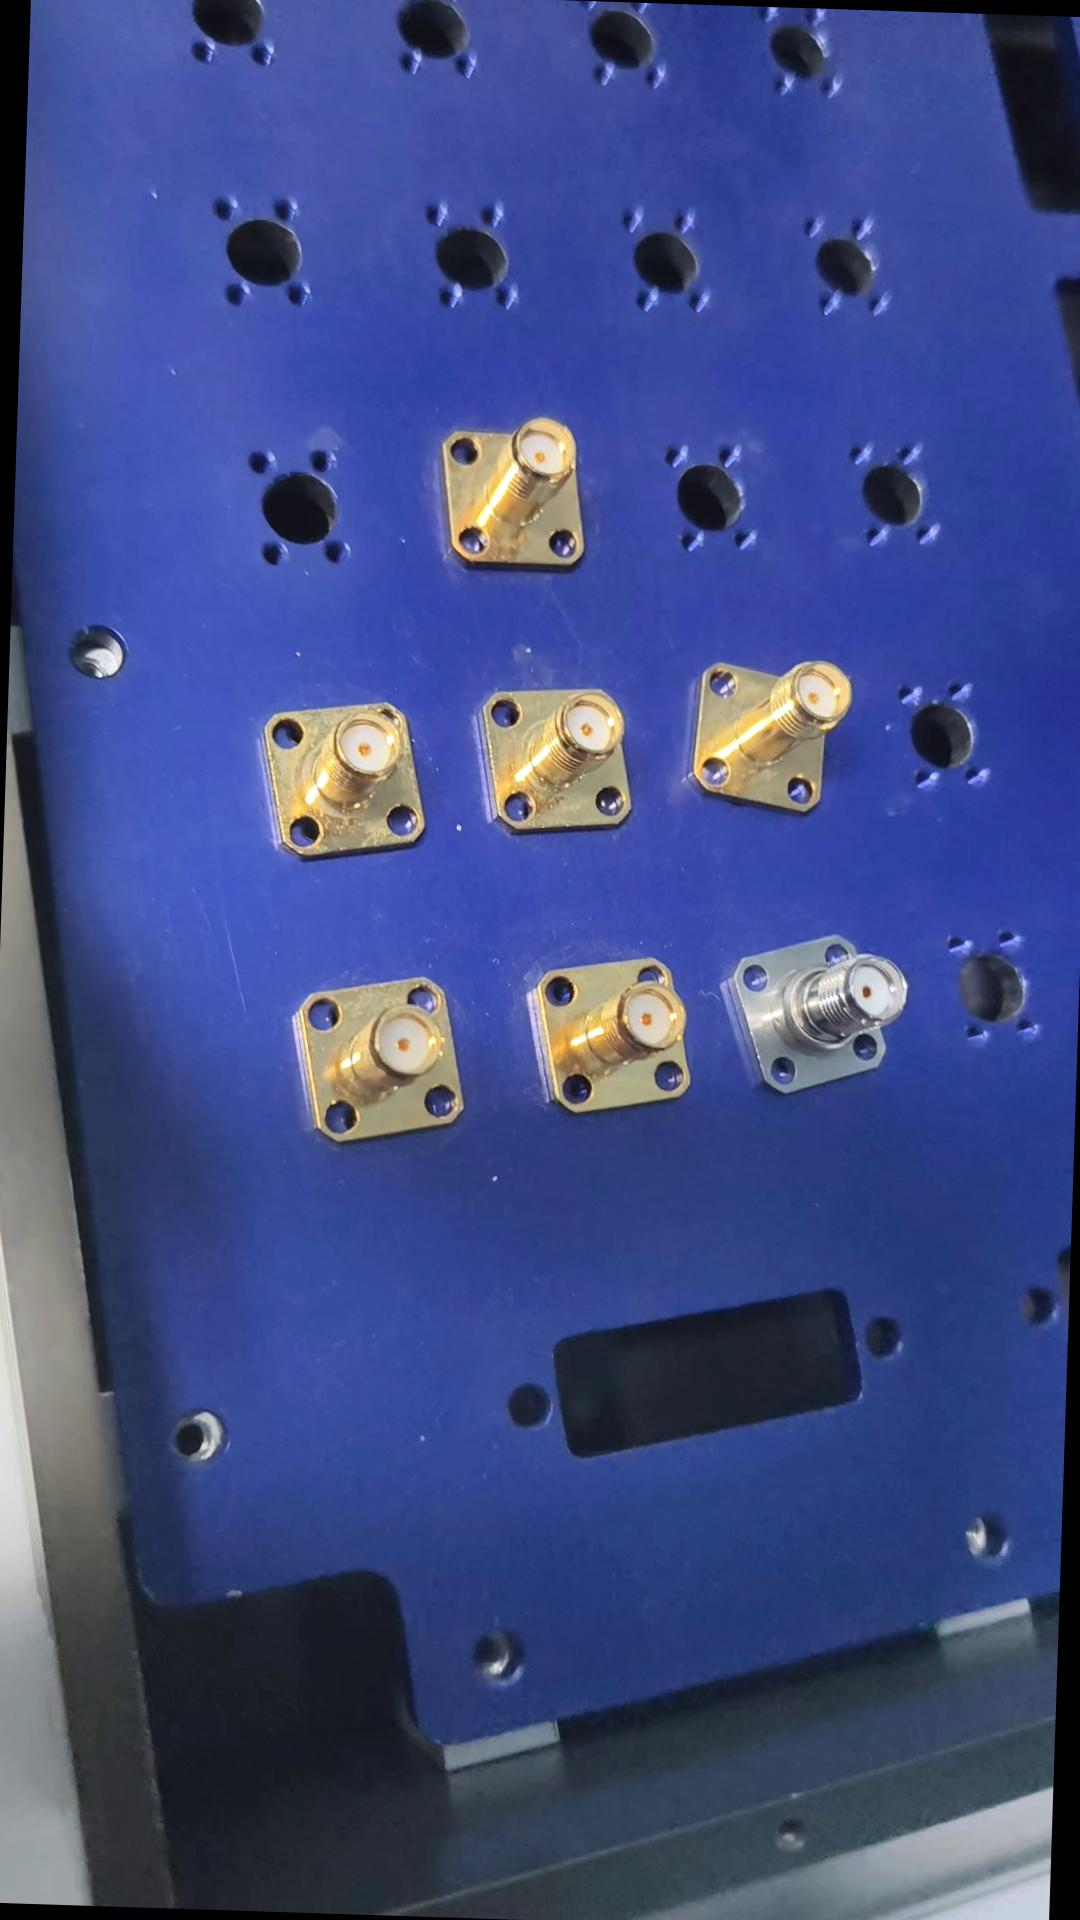SMA: (291, 957, 473, 1149), (524, 939, 698, 1125), (244, 696, 435, 862), (433, 410, 612, 578), (732, 920, 898, 1098), (477, 675, 642, 839), (688, 654, 855, 814)
